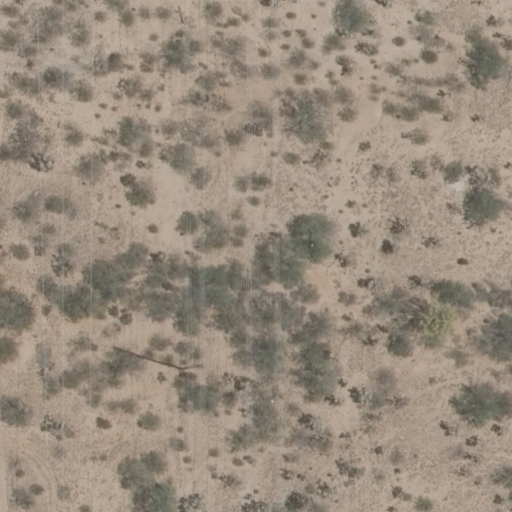DT: (167, 356, 212, 376)
